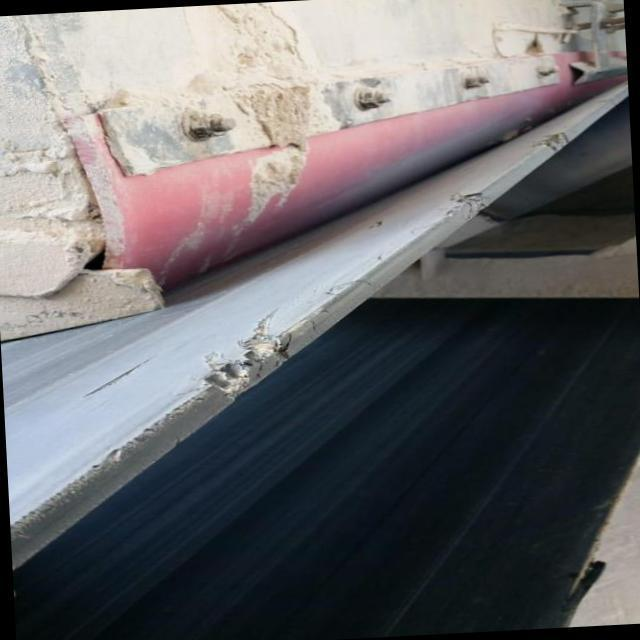Tear: (84, 348, 158, 404)
